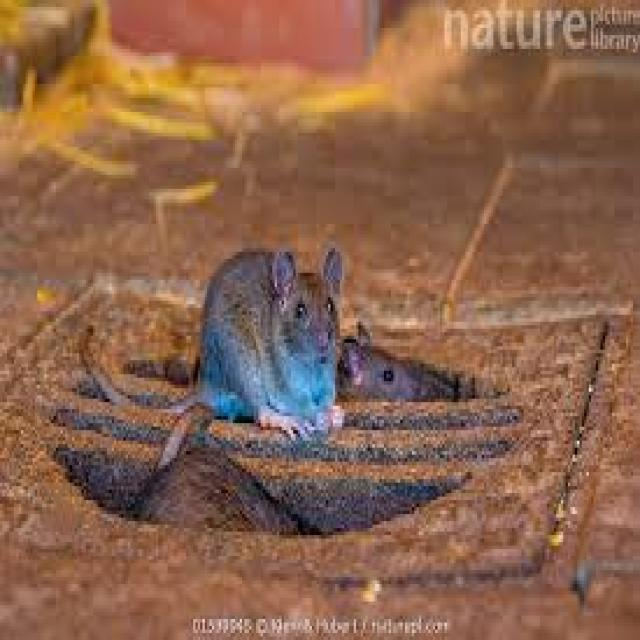rat: (165, 241, 347, 441), (335, 318, 461, 402)
